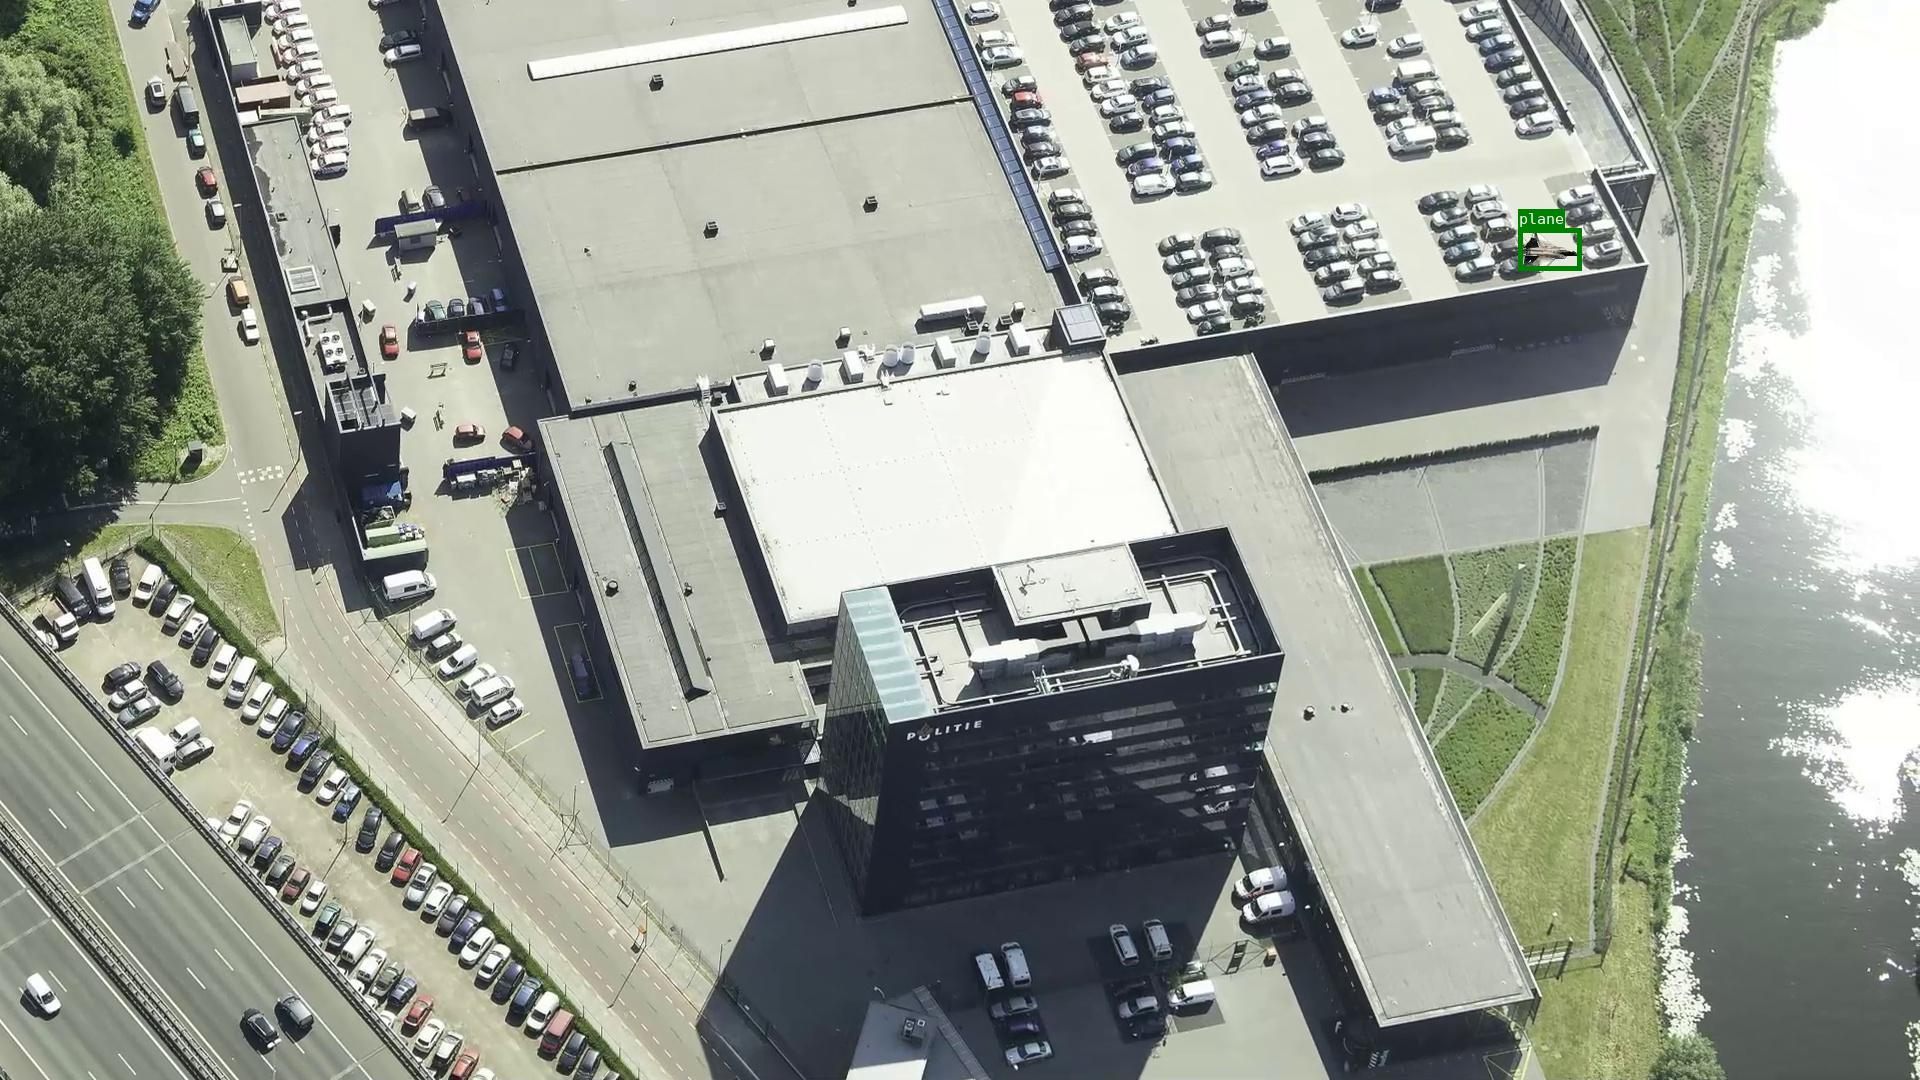plane: (1518, 228, 1581, 270)
